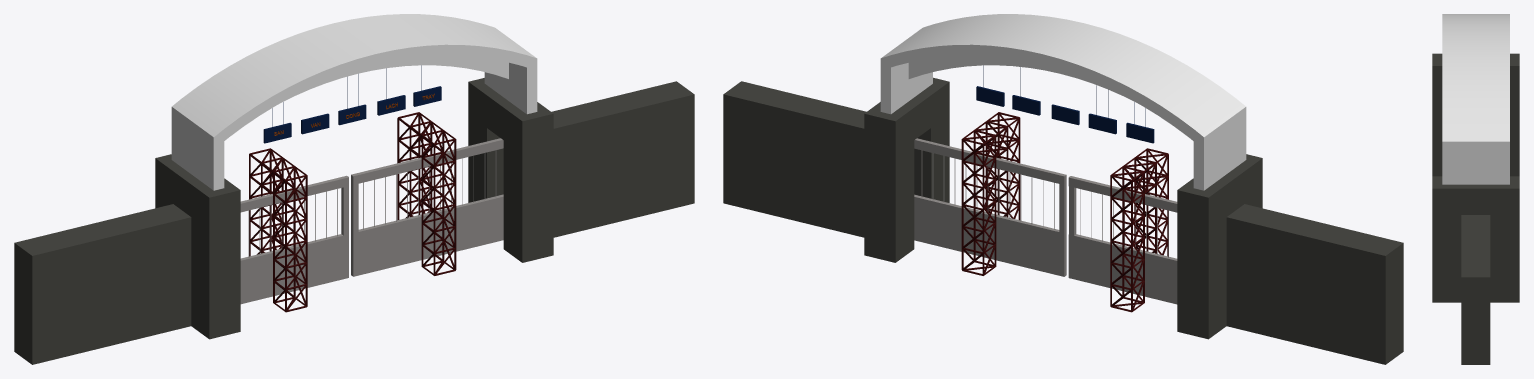
The model's file is congsvd.fbx.
The picture shows the model from 3 angles, left to right: view 1: azimuth 30°, elevation 25°; view 2: azimuth 150°, elevation 25°; view 3: azimuth 270°, elevation 25°; orthographic projection. The views are drawn at different scales.
Parts seen in each view (by area): view 1: right, left, Box001, Box007, Box004, Box003, Box002, Box006; view 2: right, left, Box001, Box007, Box004, Box003, Box002, Box006; view 3: left, Box001, right.
Part boxes in pixels (<box>): right: <box>14,154,240,364</box>; left: <box>468,78,694,262</box>; Box001: <box>171,14,537,190</box>; Box007: <box>351,138,503,276</box>; Box004: <box>240,175,348,304</box>; Box003: <box>397,112,456,275</box>; Box002: <box>249,148,307,312</box>; Box006: <box>263,65,441,143</box>; right: <box>1177,154,1403,364</box>; left: <box>723,77,949,262</box>; Box001: <box>880,14,1246,190</box>; Box007: <box>914,138,1066,276</box>; Box004: <box>1068,176,1177,304</box>; Box003: <box>961,112,1020,275</box>; Box002: <box>1110,148,1168,312</box>; Box006: <box>976,65,1154,143</box>; left: <box>1432,176,1519,364</box>; Box001: <box>1442,14,1509,184</box>; right: <box>1432,53,1519,176</box>.
Bounding box in the file's own units: 3179 × 1098 × 450.
